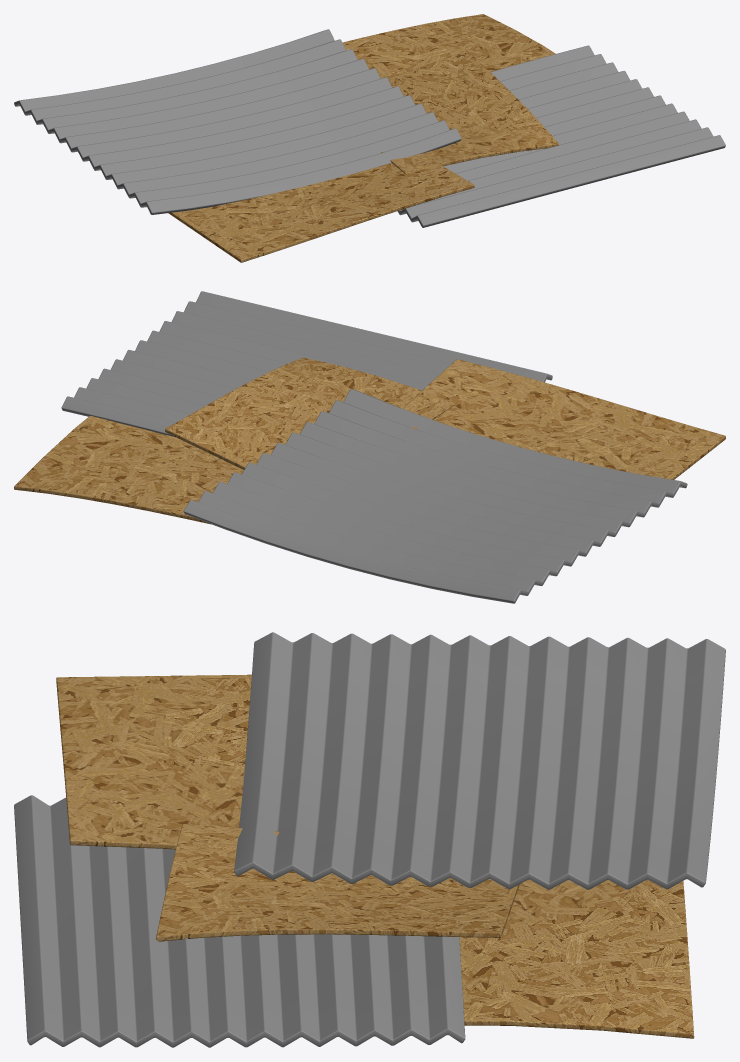
The model's file is MixedBoards_SM.FBX.
The picture shows the model from 3 angles, top to bottom: view 1: azimuth 30°, elevation 25°; view 2: azimuth 150°, elevation 25°; view 3: azimuth 270°, elevation 25°; orthographic projection. The views are drawn at different scales.
Visible parts, largest first — view 1: MetalSheet_SM, WoodenBoard_SM001, WoodenBoard_SM, WoodenBoard004, WoodenBoard005; view 2: MetalSheet_SM, WoodenBoard_SM001, WoodenBoard_SM, WoodenBoard005, WoodenBoard004; view 3: MetalSheet_SM, WoodenBoard_SM001, WoodenBoard005, WoodenBoard_SM, WoodenBoard004.
Part boxes in pixels (box(x1,y1,x2,y2)): MetalSheet_SM: box(14, 29, 461, 214); WoodenBoard_SM001: box(397, 45, 725, 227); WoodenBoard_SM: box(168, 154, 474, 262); WoodenBoard004: box(381, 50, 558, 173); WoodenBoard005: box(342, 14, 555, 78); MetalSheet_SM: box(183, 389, 687, 603); WoodenBoard_SM001: box(61, 291, 552, 437); WoodenBoard_SM: box(403, 359, 725, 479); WoodenBoard005: box(14, 415, 243, 524); WoodenBoard004: box(165, 357, 455, 469); MetalSheet_SM: box(234, 632, 725, 889); WoodenBoard_SM001: box(14, 795, 465, 1047); WoodenBoard005: box(459, 880, 694, 1038); WoodenBoard_SM: box(56, 674, 251, 849); WoodenBoard004: box(156, 824, 519, 941).
Size of what is drawn, in the model's own units: 491 by 32.12 by 376.
2 materials, 1 textured.
